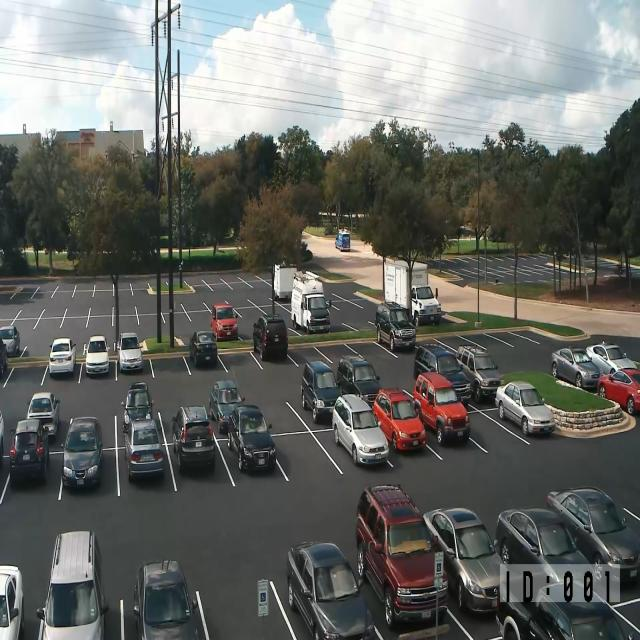car: (356, 483, 448, 629), (494, 506, 598, 604), (546, 486, 640, 584), (496, 575, 639, 639), (286, 540, 375, 640), (422, 507, 502, 615), (36, 530, 109, 639), (133, 559, 209, 639), (413, 371, 470, 446), (332, 393, 389, 466), (528, 599, 626, 640), (413, 342, 472, 408), (373, 388, 426, 452), (495, 381, 556, 436), (227, 404, 276, 472), (60, 415, 103, 489), (172, 405, 216, 473), (456, 344, 504, 402), (123, 416, 164, 481), (301, 359, 342, 424), (9, 418, 49, 484), (336, 354, 381, 408), (550, 346, 602, 391), (596, 367, 640, 415), (375, 301, 416, 351), (208, 379, 245, 433), (0, 564, 24, 639), (586, 340, 637, 375), (121, 381, 154, 433), (252, 314, 288, 361), (26, 391, 60, 439), (411, 284, 441, 327), (116, 332, 143, 373), (83, 335, 110, 376), (189, 330, 218, 368), (210, 302, 238, 341), (49, 337, 76, 376), (0, 324, 20, 356), (335, 230, 350, 251), (0, 337, 7, 377), (0, 409, 4, 469), (335, 232, 343, 250), (300, 239, 308, 252)
